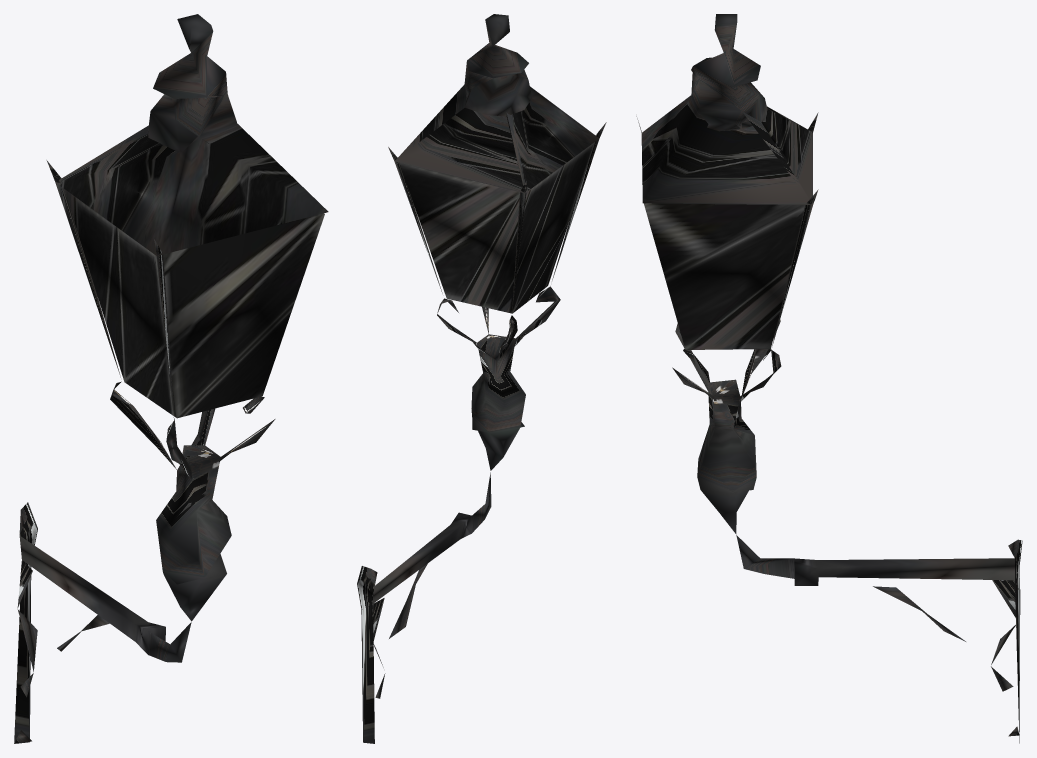
File: street_lamp_02_lo.glb
3 renders of one model, left to right at view 1: azimuth 30°, elevation 25°; view 2: azimuth 150°, elevation 25°; view 3: azimuth 270°, elevation 25°, orthographic. The views are drawn at different scales.
Visible parts, largest first — view 1: street_lamp_02; view 2: street_lamp_02; view 3: street_lamp_02.
Part boxes in pixels (<box>): street_lamp_02: <box>14,14,328,743</box>; street_lamp_02: <box>357,14,606,743</box>; street_lamp_02: <box>636,14,1022,743</box>.
Size of the model in its own units: 0.3803 by 1.66 by 0.8037.
Materials: 2 (2 with a texture image).
